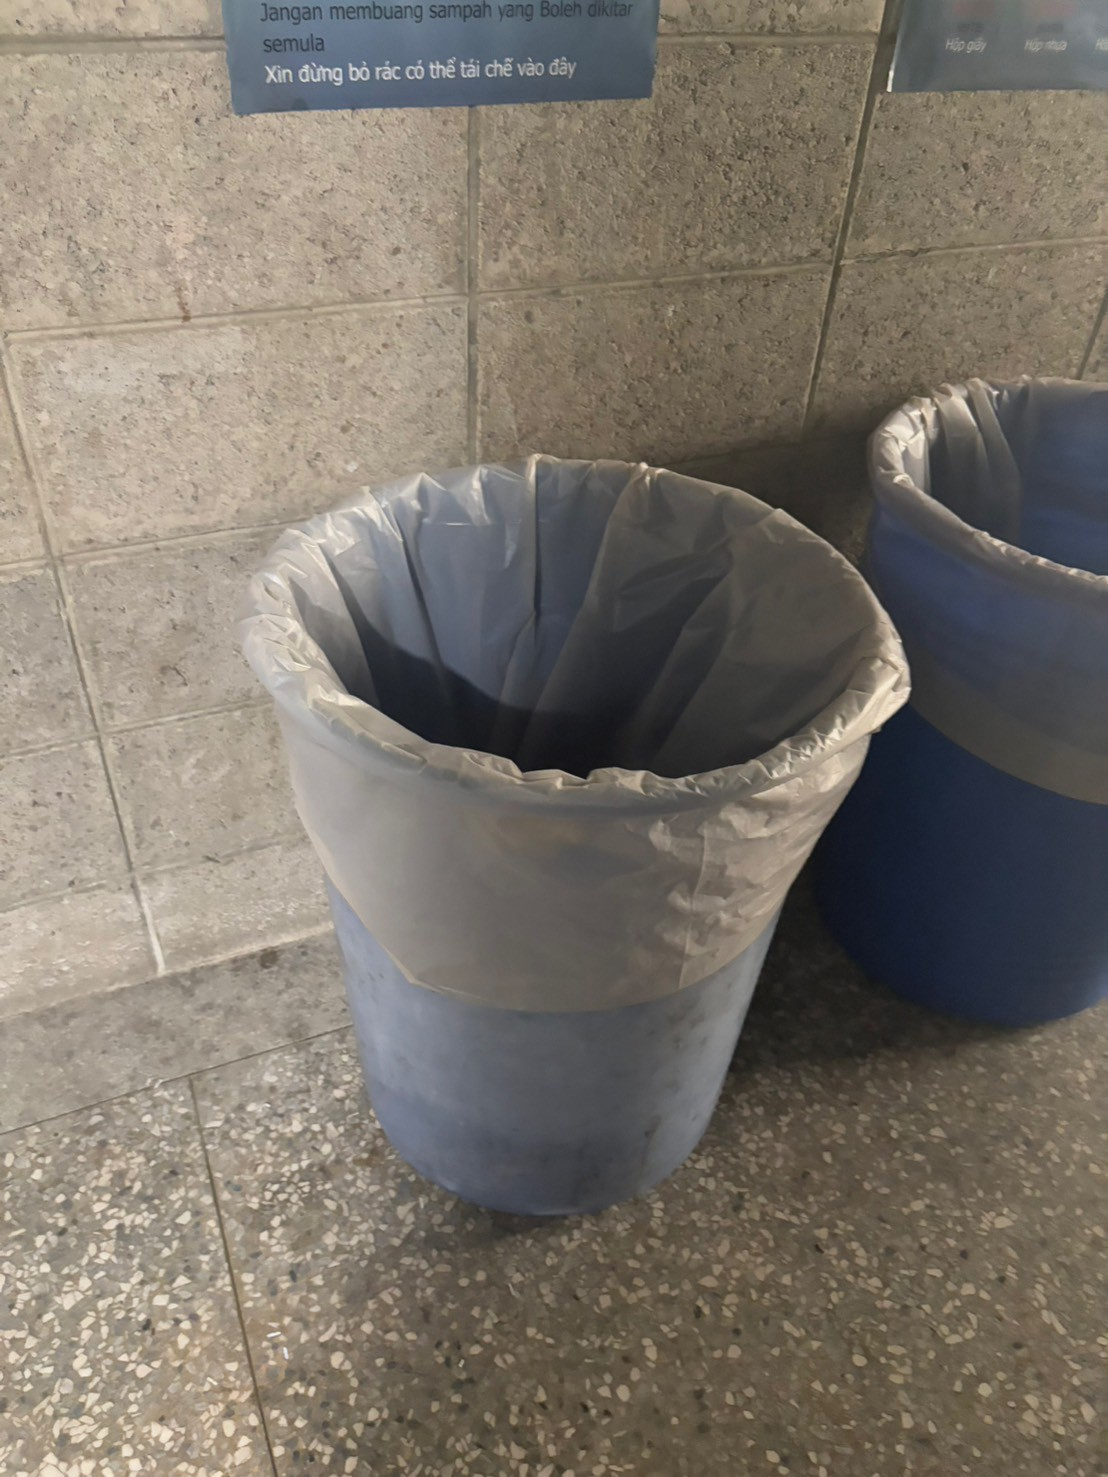normal_bin: (229, 443, 919, 1244)
